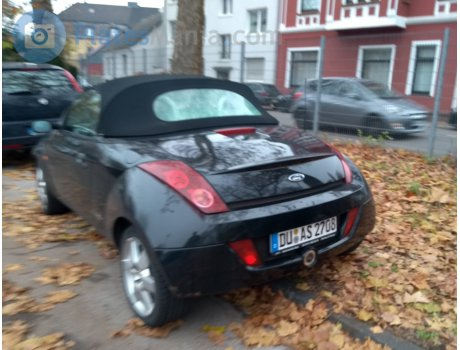License Plates: (276, 222, 328, 245), (276, 229, 327, 245), (276, 229, 326, 245), (276, 231, 327, 245)
